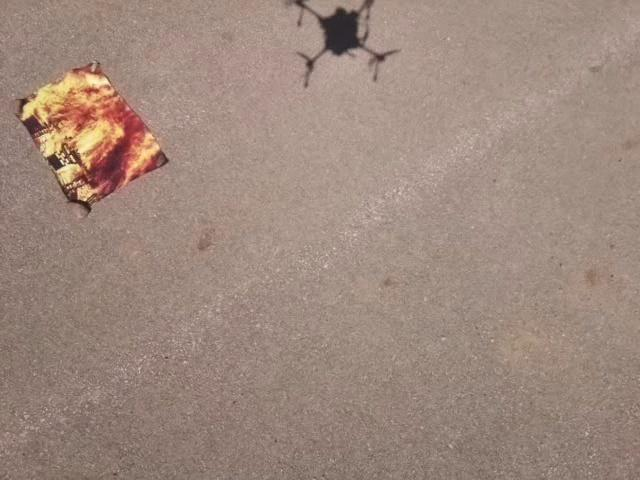fire-poster: (14, 58, 170, 216)
